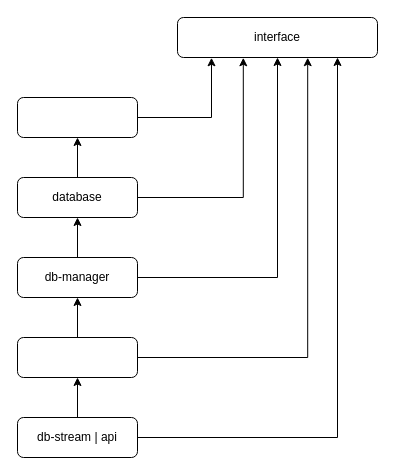
This 395x475 diagram has some shape labels left out. The centre of each missing label's shape, as x and y in pixels:
filestream: (x=77, y=357)
table: (x=77, y=117)
